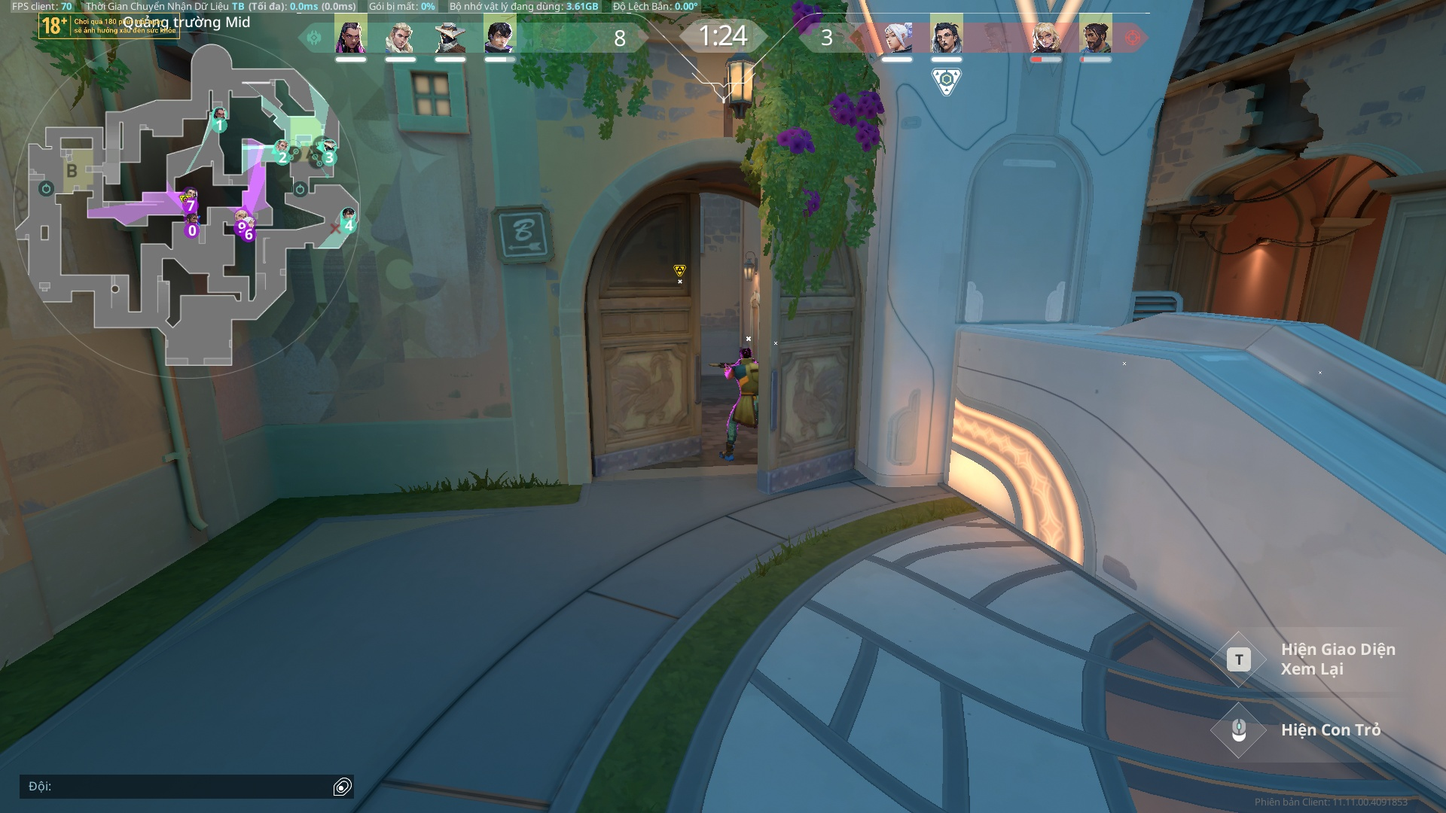body: (731, 359, 764, 394)
head: (738, 347, 753, 359)
